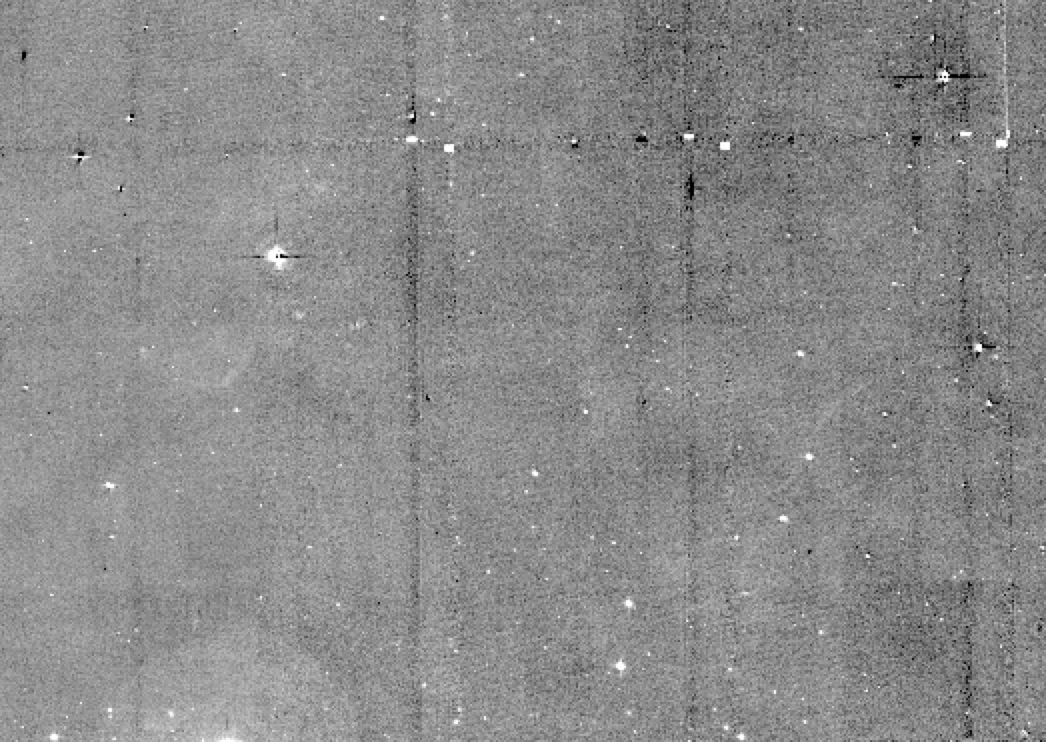Halpha: (731, 357, 903, 551), (151, 311, 300, 421)
